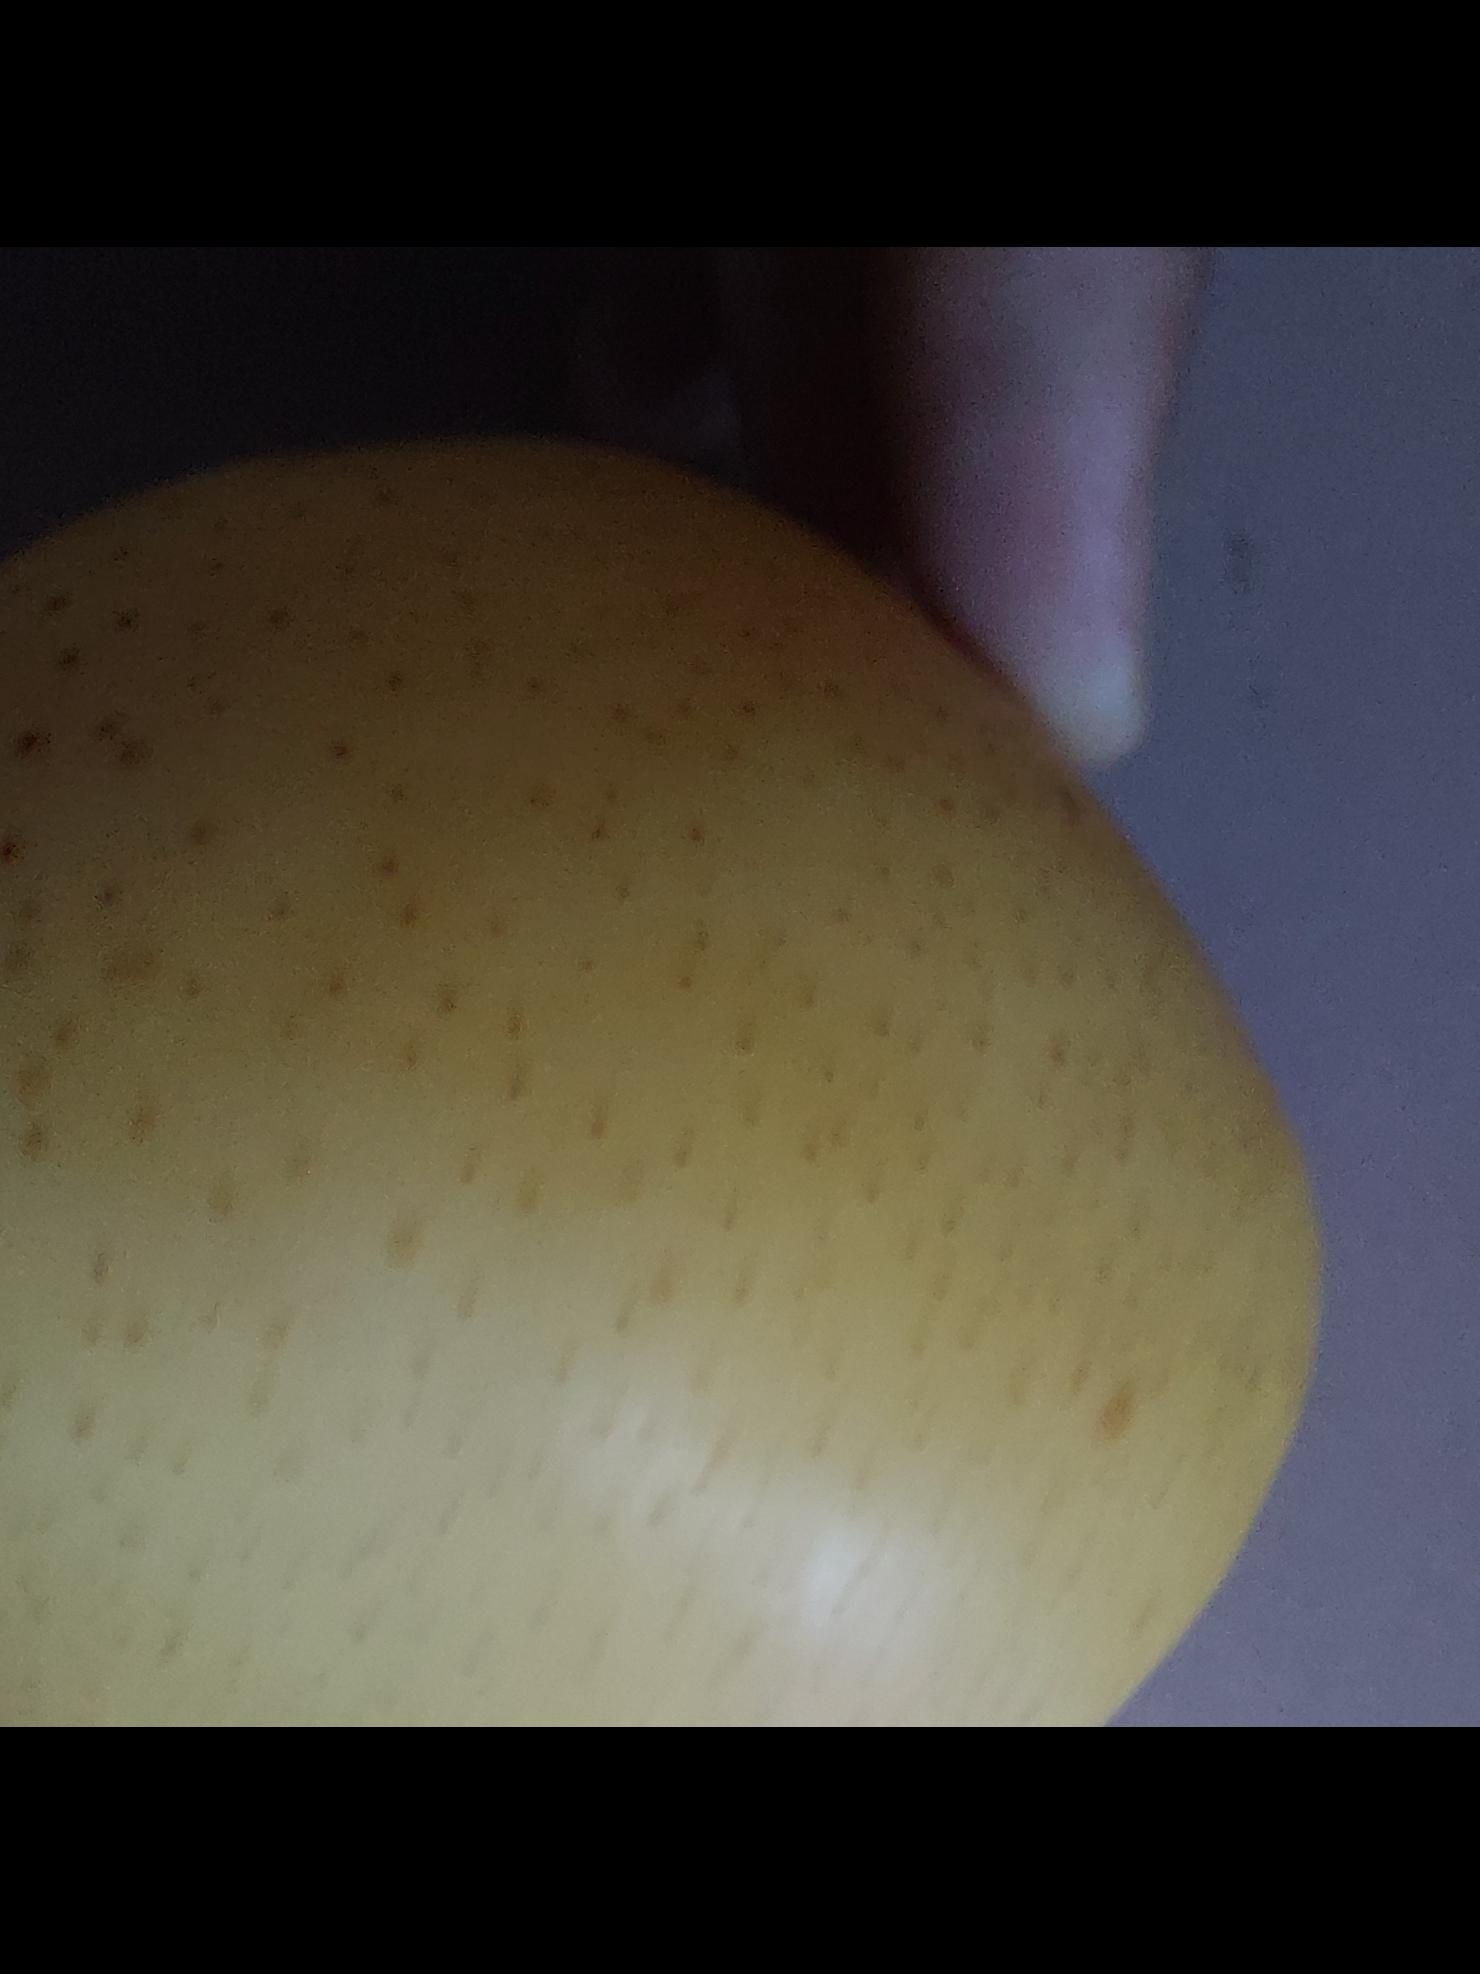Good Pear: (0, 424, 1339, 1727)
